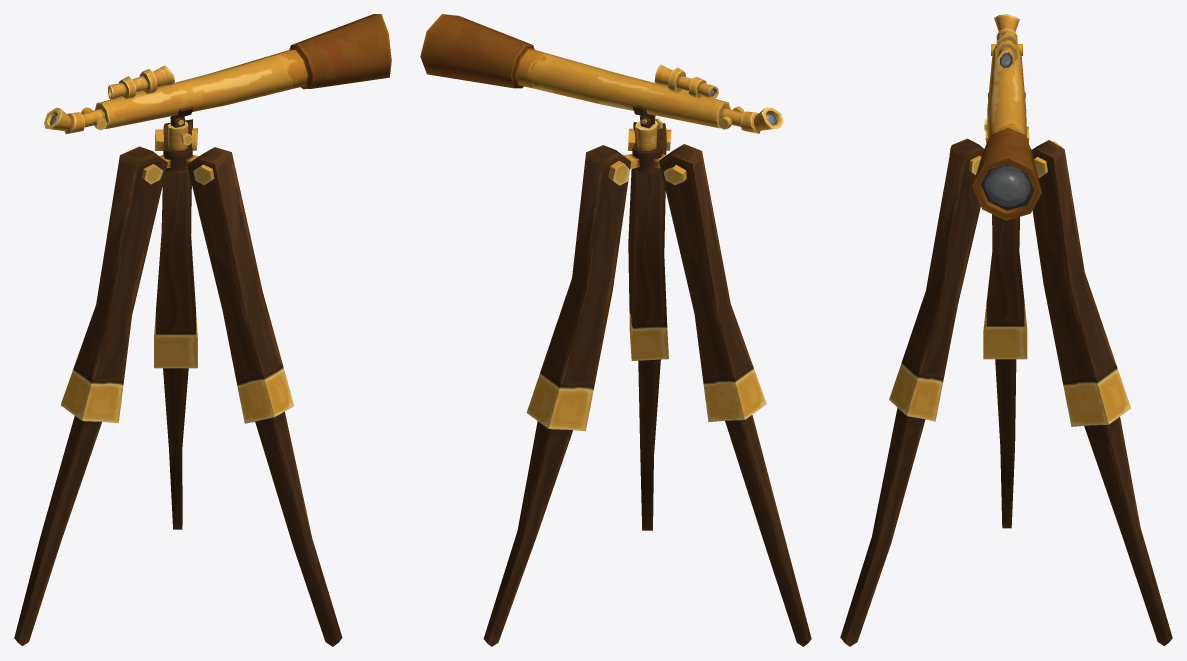
File: SM_PROP_telescope_interior.fbx
3 views of the same model, side by side, from view 1: azimuth 30°, elevation 25°; view 2: azimuth 150°, elevation 25°; view 3: azimuth 270°, elevation 25° (orthographic).
Parts seen in each view (by area): view 1: SM_PROP_telescope_interior, SM_PROP_telescope_maintube_interior; view 2: SM_PROP_telescope_interior, SM_PROP_telescope_maintube_interior; view 3: SM_PROP_telescope_interior, SM_PROP_telescope_maintube_interior.
Part boxes in pixels (x1,y1,x2,y2): SM_PROP_telescope_interior: [14, 119, 342, 646]; SM_PROP_telescope_maintube_interior: [44, 14, 391, 134]; SM_PROP_telescope_interior: [483, 117, 811, 646]; SM_PROP_telescope_maintube_interior: [420, 14, 783, 133]; SM_PROP_telescope_interior: [840, 119, 1172, 646]; SM_PROP_telescope_maintube_interior: [972, 14, 1041, 220].
Bounding box in the file's own units: 93.26 × 131 × 71.51.
